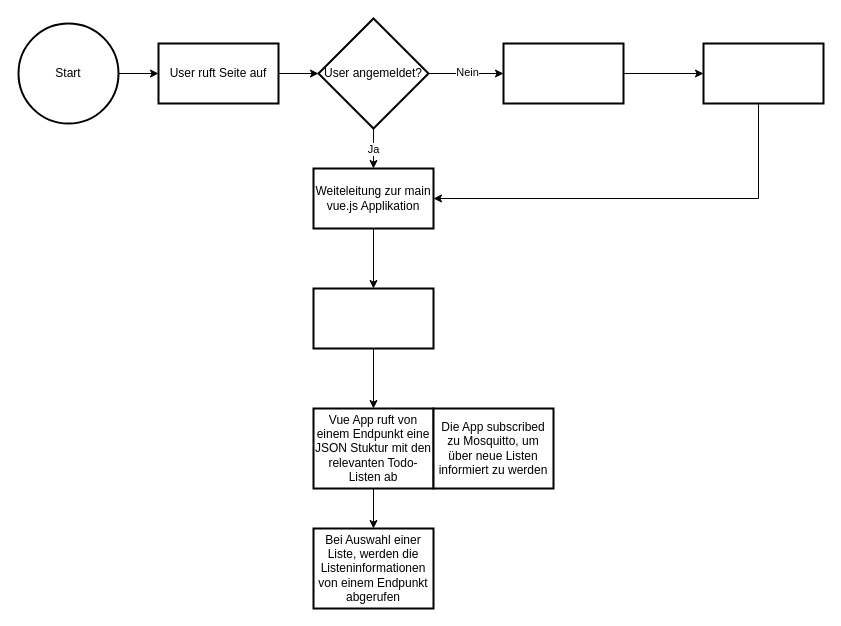
Image size: 841x626. Some labels were removed from this diagram. Each missing label, with the centre of its shape:
"Anmeldung/Account anlegen" goes at pixel 763 73.
"Vue.js App wird geserved (ohne Daten)" goes at pixel 373 318.
"Weiteleitung zur Anmeldeseite (cshtml?)" goes at pixel 563 73.
